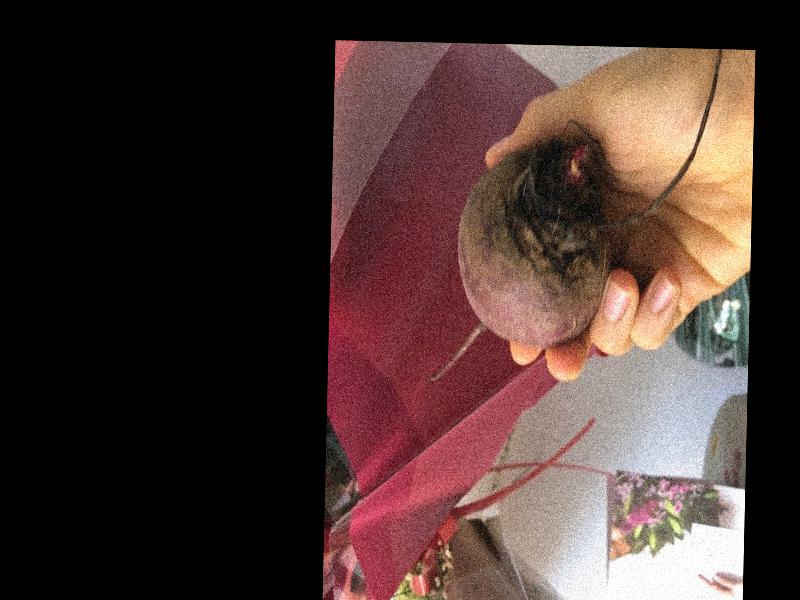Beet: (426, 46, 722, 391)
